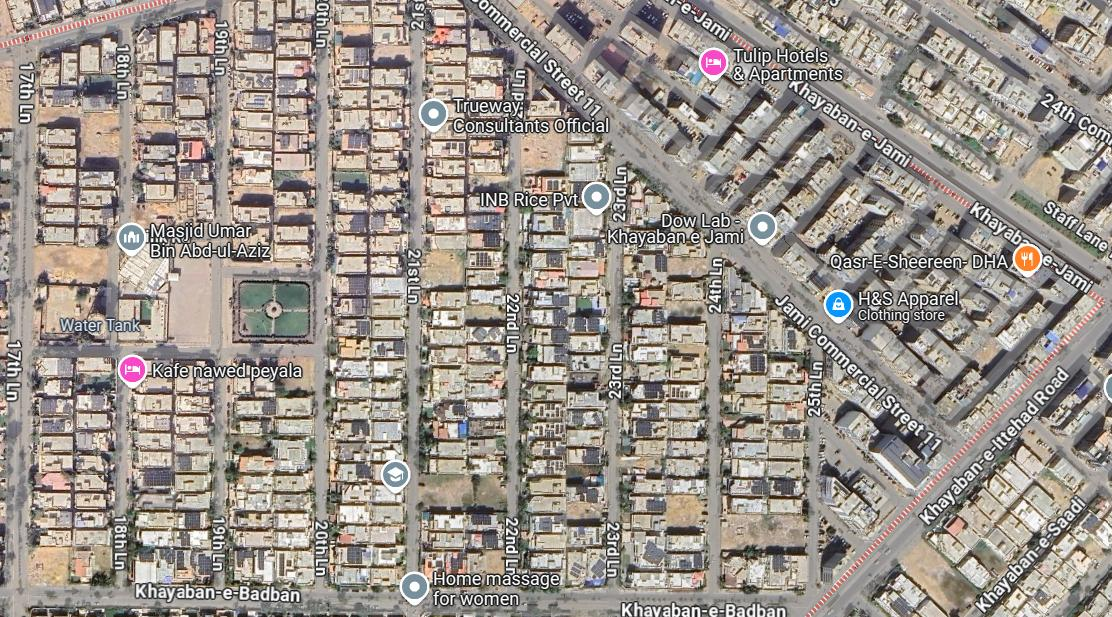Buildings: (522, 66, 608, 587), (624, 168, 706, 583), (820, 353, 948, 588), (721, 254, 808, 591), (233, 3, 315, 261), (26, 357, 116, 585), (228, 358, 316, 585), (132, 358, 216, 586), (138, 13, 216, 223), (40, 35, 116, 243), (117, 244, 212, 345), (39, 247, 110, 345), (234, 281, 311, 345)
